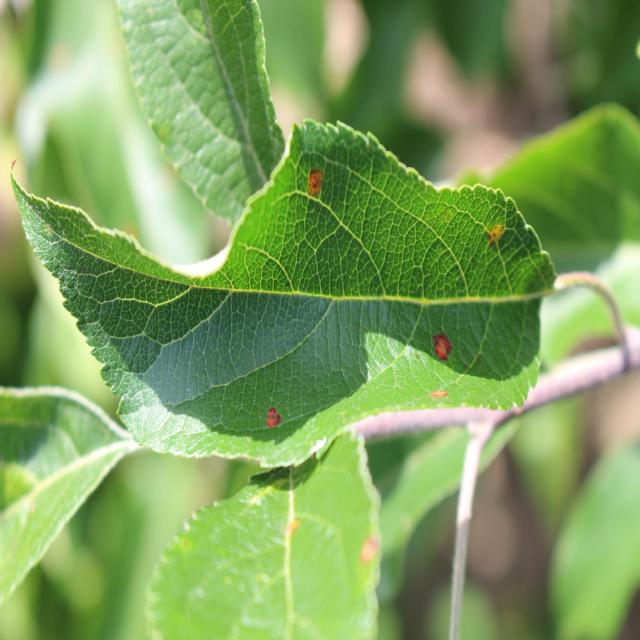Rust: (353, 515, 387, 580), (424, 310, 460, 370), (301, 160, 333, 215), (472, 211, 507, 260), (177, 512, 196, 578), (260, 400, 288, 442), (423, 382, 458, 409), (284, 513, 300, 555)
